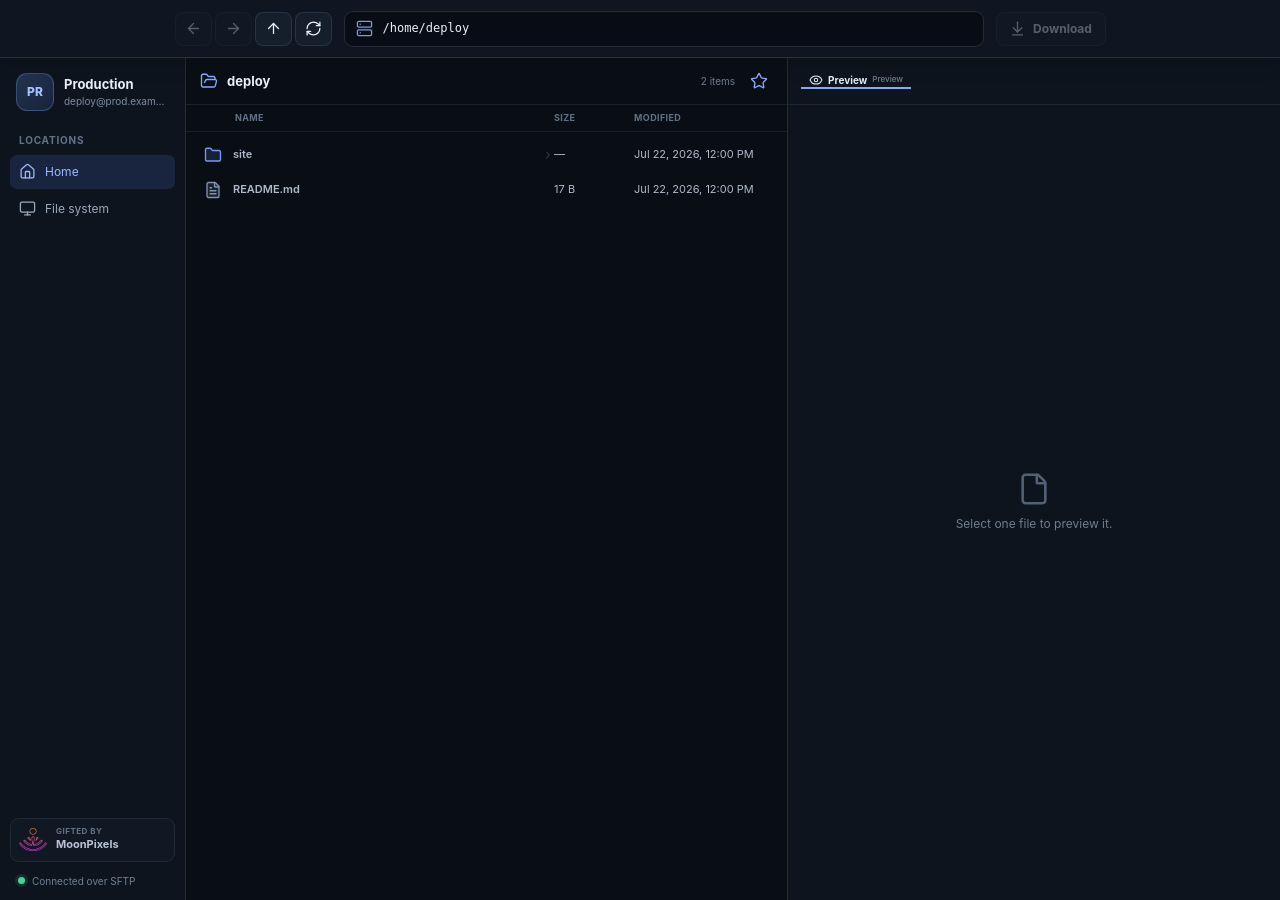
it: server explorer window › focuses a detached preview and restores it after the window closes
Click the option "README.md 17 B Jul 22, 2026, 12:00 PM" at (266, 189), box 204,180 -> 754,198
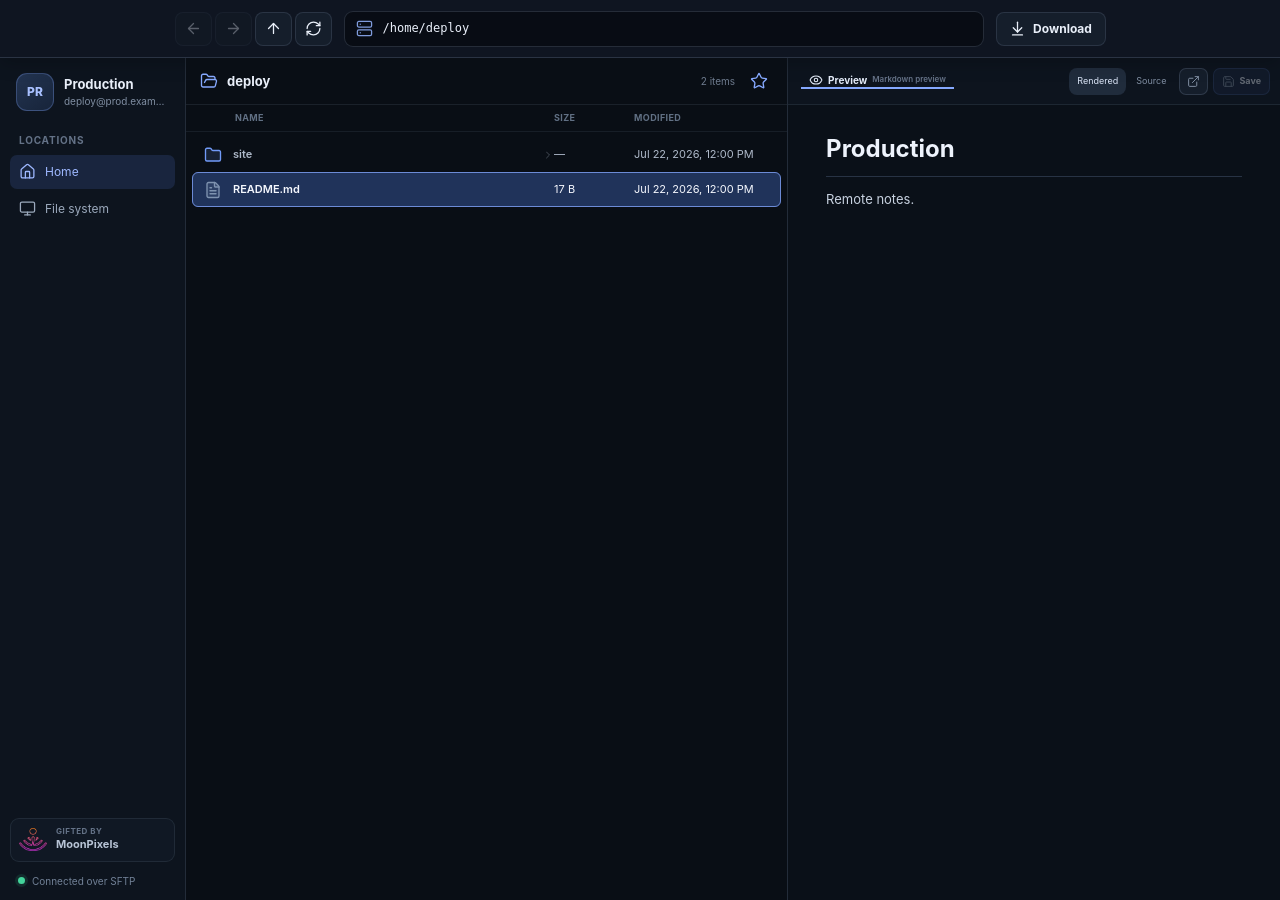
Expected: the heading "Production" is shown, 826,129 -> 1242,177
Click the button named "Open README.md preview in new window" at (1194, 81), box 1179,68 -> 1208,94
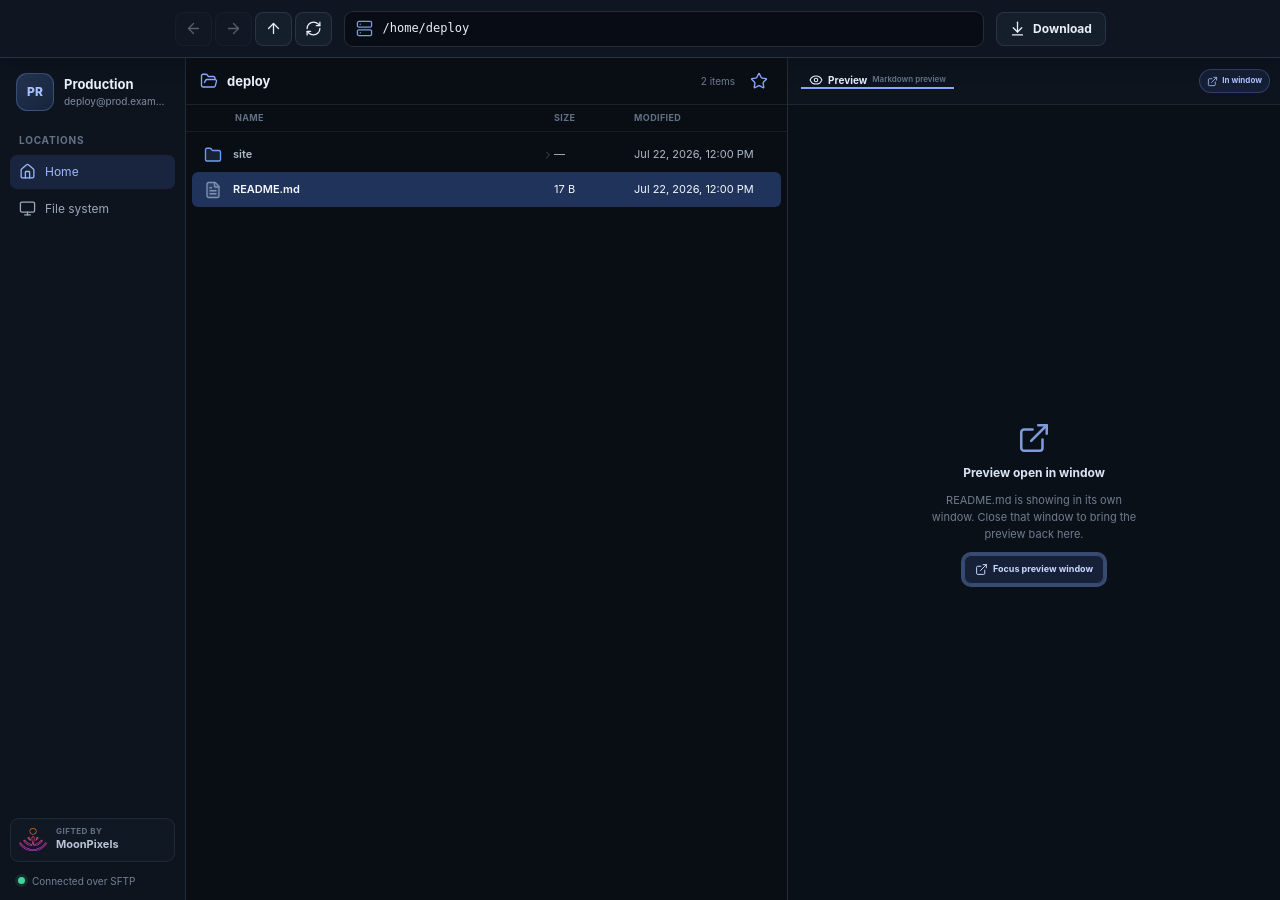
Expected: the text "Preview open in window" is shown, 963,464 -> 1105,483
Click the button with aria-label "Focus preview window for README.md" at (1034, 569), box 964,555 -> 1104,584
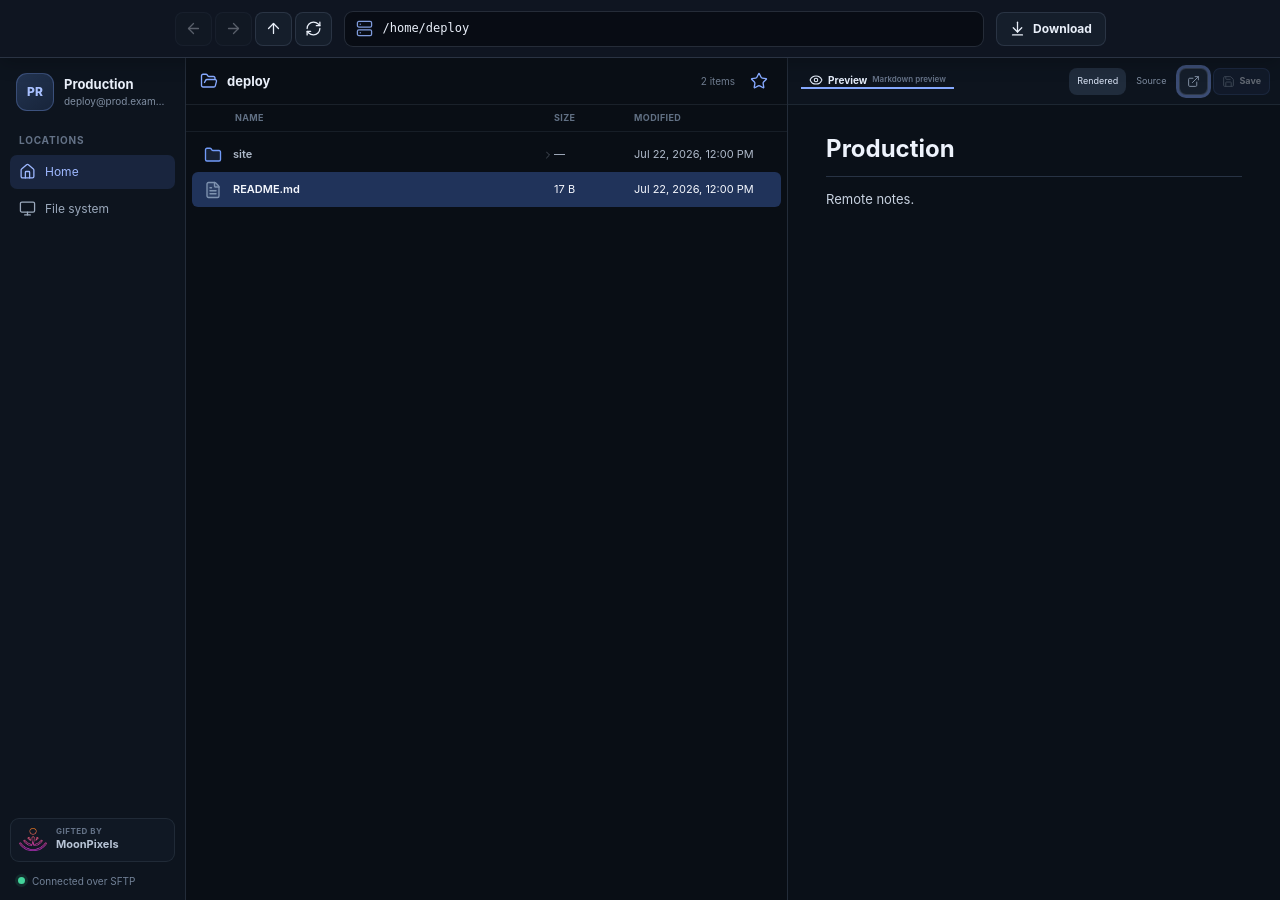
Expected: the heading "Production" is shown, 826,129 -> 1242,177
